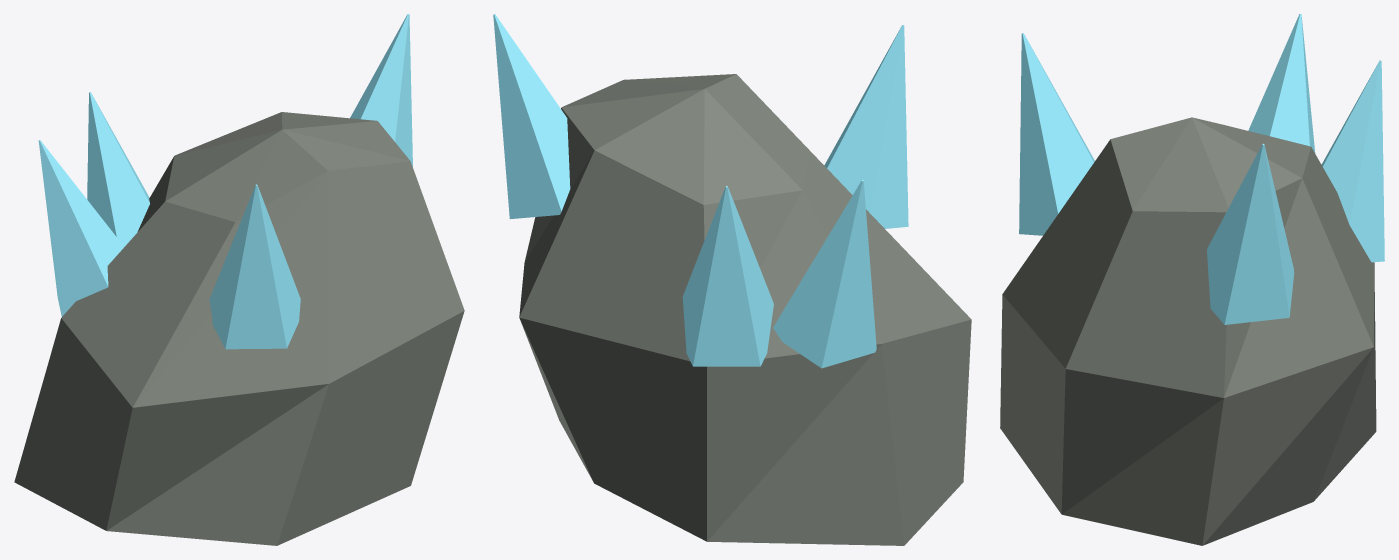
Rendered from rare_crystal_node.glb.
The picture shows the model from 3 angles, left to right: view 1: azimuth 30°, elevation 25°; view 2: azimuth 150°, elevation 25°; view 3: azimuth 270°, elevation 25°; orthographic projection. The views are drawn at different scales.
Parts seen in each view (by area): view 1: rare_crystal_node; view 2: rare_crystal_node; view 3: rare_crystal_node.
Part boxes in pixels (x1,y1,x2,y2): rare_crystal_node: [14, 14, 464, 545]; rare_crystal_node: [493, 14, 971, 545]; rare_crystal_node: [1000, 14, 1384, 545].
Bounding box in the file's own units: 1.53 × 1.45 × 1.21.
